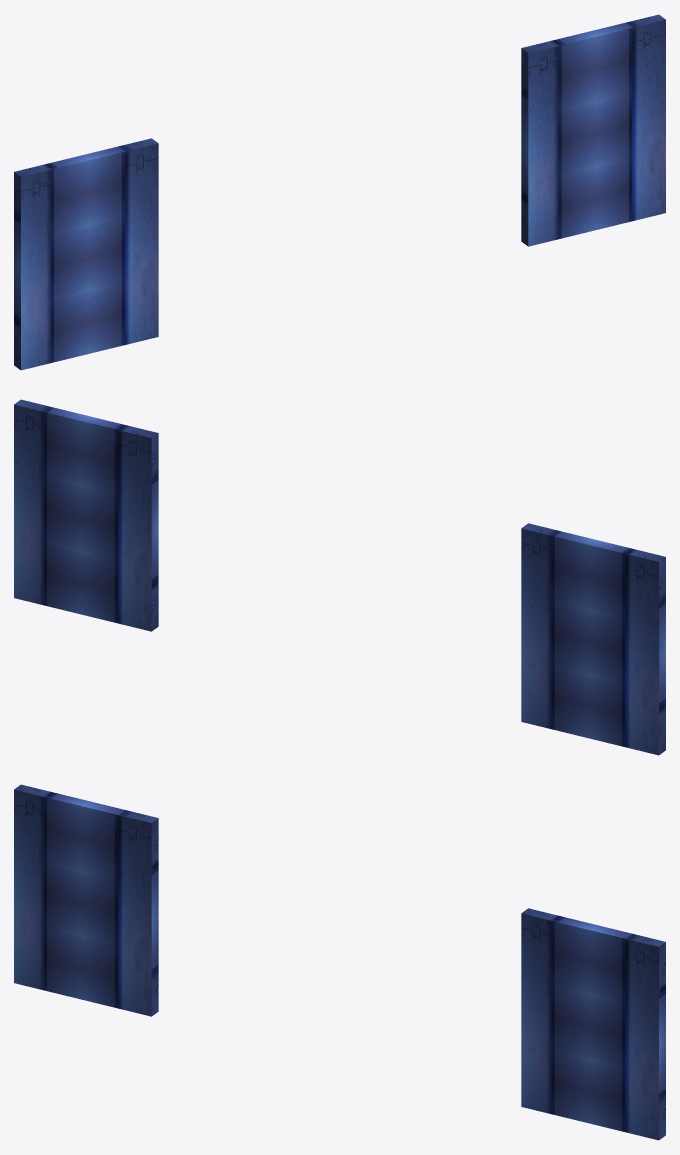
Rendered from SubwayTunnel01_Box.FBX.
The picture shows the model from 3 angles, top to bottom: view 1: azimuth 30°, elevation 25°; view 2: azimuth 150°, elevation 25°; view 3: azimuth 330°, elevation 25°; orthographic projection.
Parts seen in each view (by area): view 1: SubwayTunnel01_Box; view 2: SubwayTunnel01_Box; view 3: SubwayTunnel01_Box.
Part boxes in pixels (x1=…): SubwayTunnel01_Box: x1=14, y1=14, x2=665, y2=370; SubwayTunnel01_Box: x1=14, y1=399, x2=665, y2=755; SubwayTunnel01_Box: x1=14, y1=784, x2=665, y2=1140.
Size of the model in its own units: 26654 by 7641 by 500.
